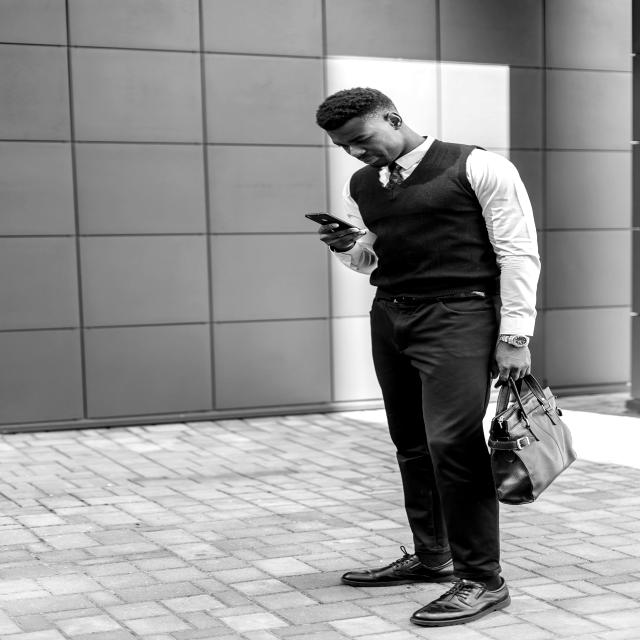No-Boots: (402, 576, 522, 628), (336, 552, 455, 590)
No-Vest: (342, 155, 513, 326)
